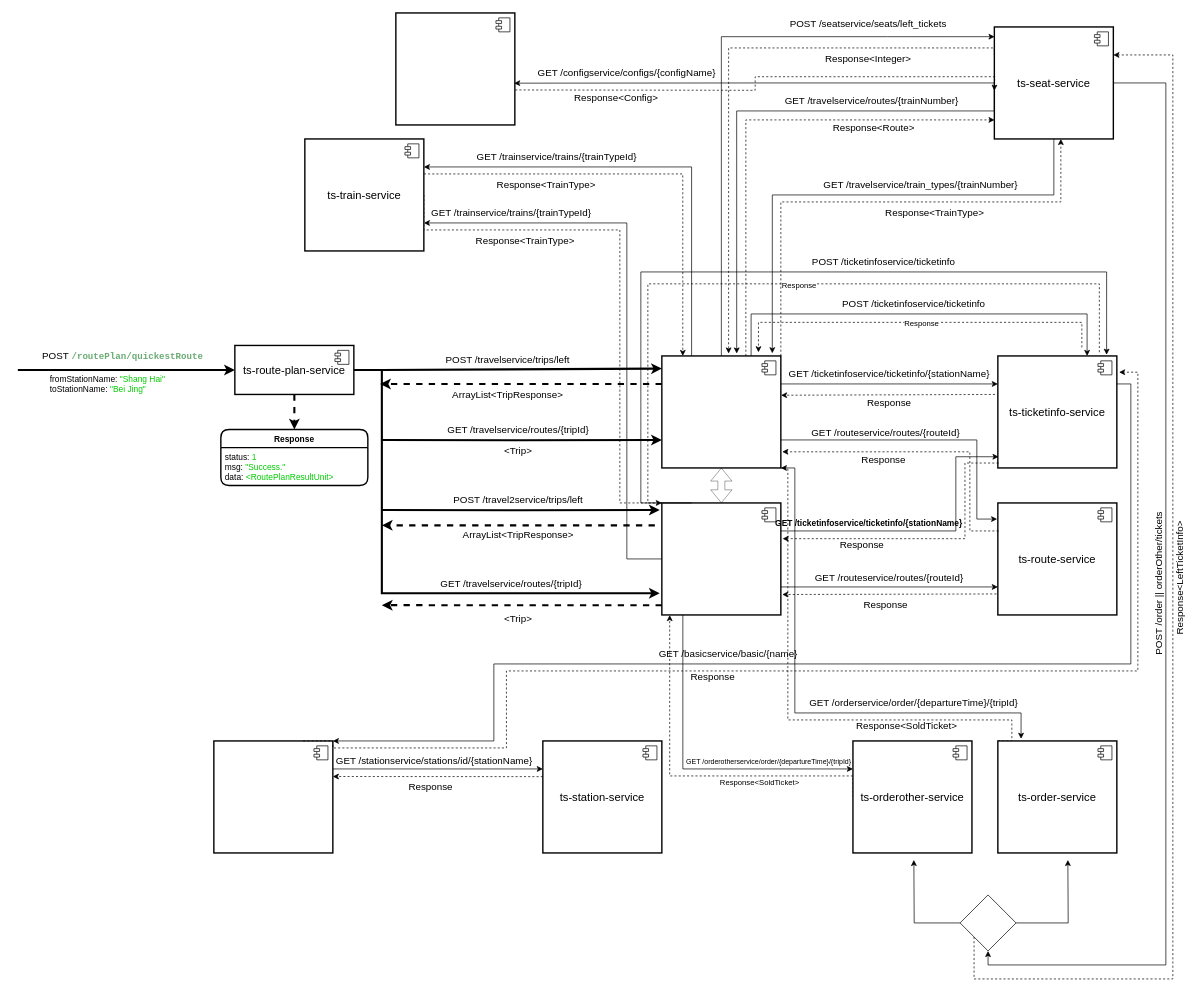
Some shapes in this 1203 by 997 pixel diagram are drawn without their labels. The centre of each missing label's shape, as x and y in pixels:
"ts-basic-service" belongs at (273,796).
"ts-config -service" belongs at (455,68).
"ts-travel-service" belongs at (721,411).
"ts-travel2-service" belongs at (721,558).
